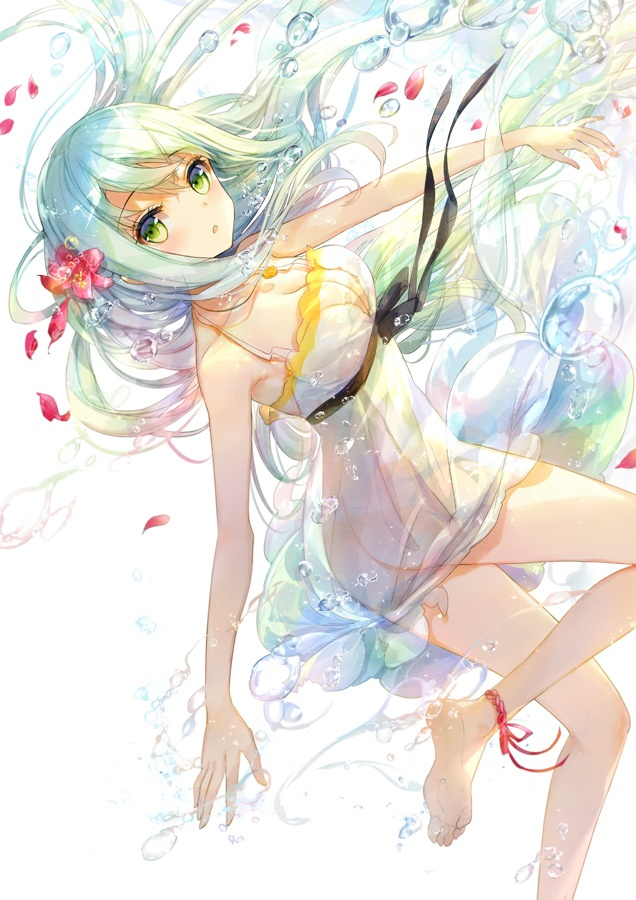纸片人正脸: (34, 86, 291, 289)
